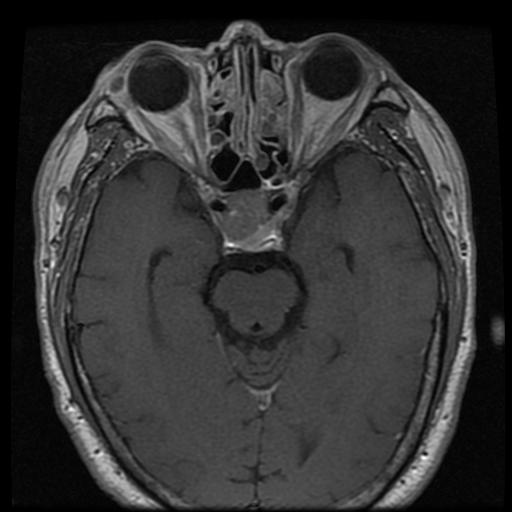Pituirity_tumour: (221, 188, 270, 242)
